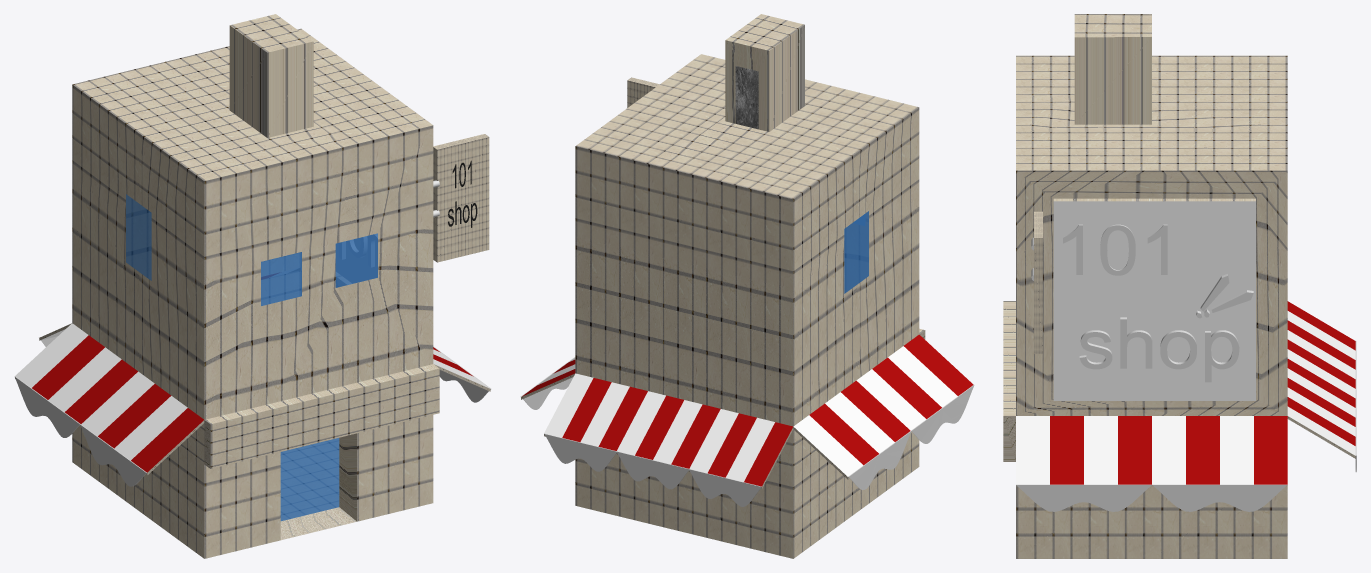
Rendered from Supermarket.FBX.
3 views of the same model, side by side, from view 1: azimuth 30°, elevation 25°; view 2: azimuth 150°, elevation 25°; view 3: azimuth 270°, elevation 25° (orthographic). The views are drawn at different scales.
Parts seen in each view (by area): view 1: Box001, Box002, Line007, 加强型文本004, Line006; view 2: Box001, Line005, Line007; view 3: Box001, Line006, 加强型文本004, 加强型文本003, Box002.
Part boxes in pixels (left/top/right/bottom): Box001: left=15, top=14, right=490, bottom=558; Box002: left=433, top=134, right=489, bottom=262; Line007: left=14, top=376, right=146, bottom=486; 加强型文本004: left=339, top=234, right=377, bottom=266; Line006: left=433, top=346, right=491, bottom=402; Box001: left=521, top=14, right=973, bottom=558; Line005: left=544, top=433, right=761, bottom=506; Line007: left=848, top=385, right=974, bottom=489; Box001: left=1003, top=14, right=1355, bottom=558; Line006: left=1016, top=484, right=1286, bottom=511; 加强型文本004: left=1079, top=317, right=1239, bottom=382; 加强型文本003: left=1063, top=224, right=1167, bottom=275; Box002: left=1034, top=211, right=1042, bottom=353.
Size of the model in its own units: 870 by 1095 by 737.
6 materials, 2 textured.
